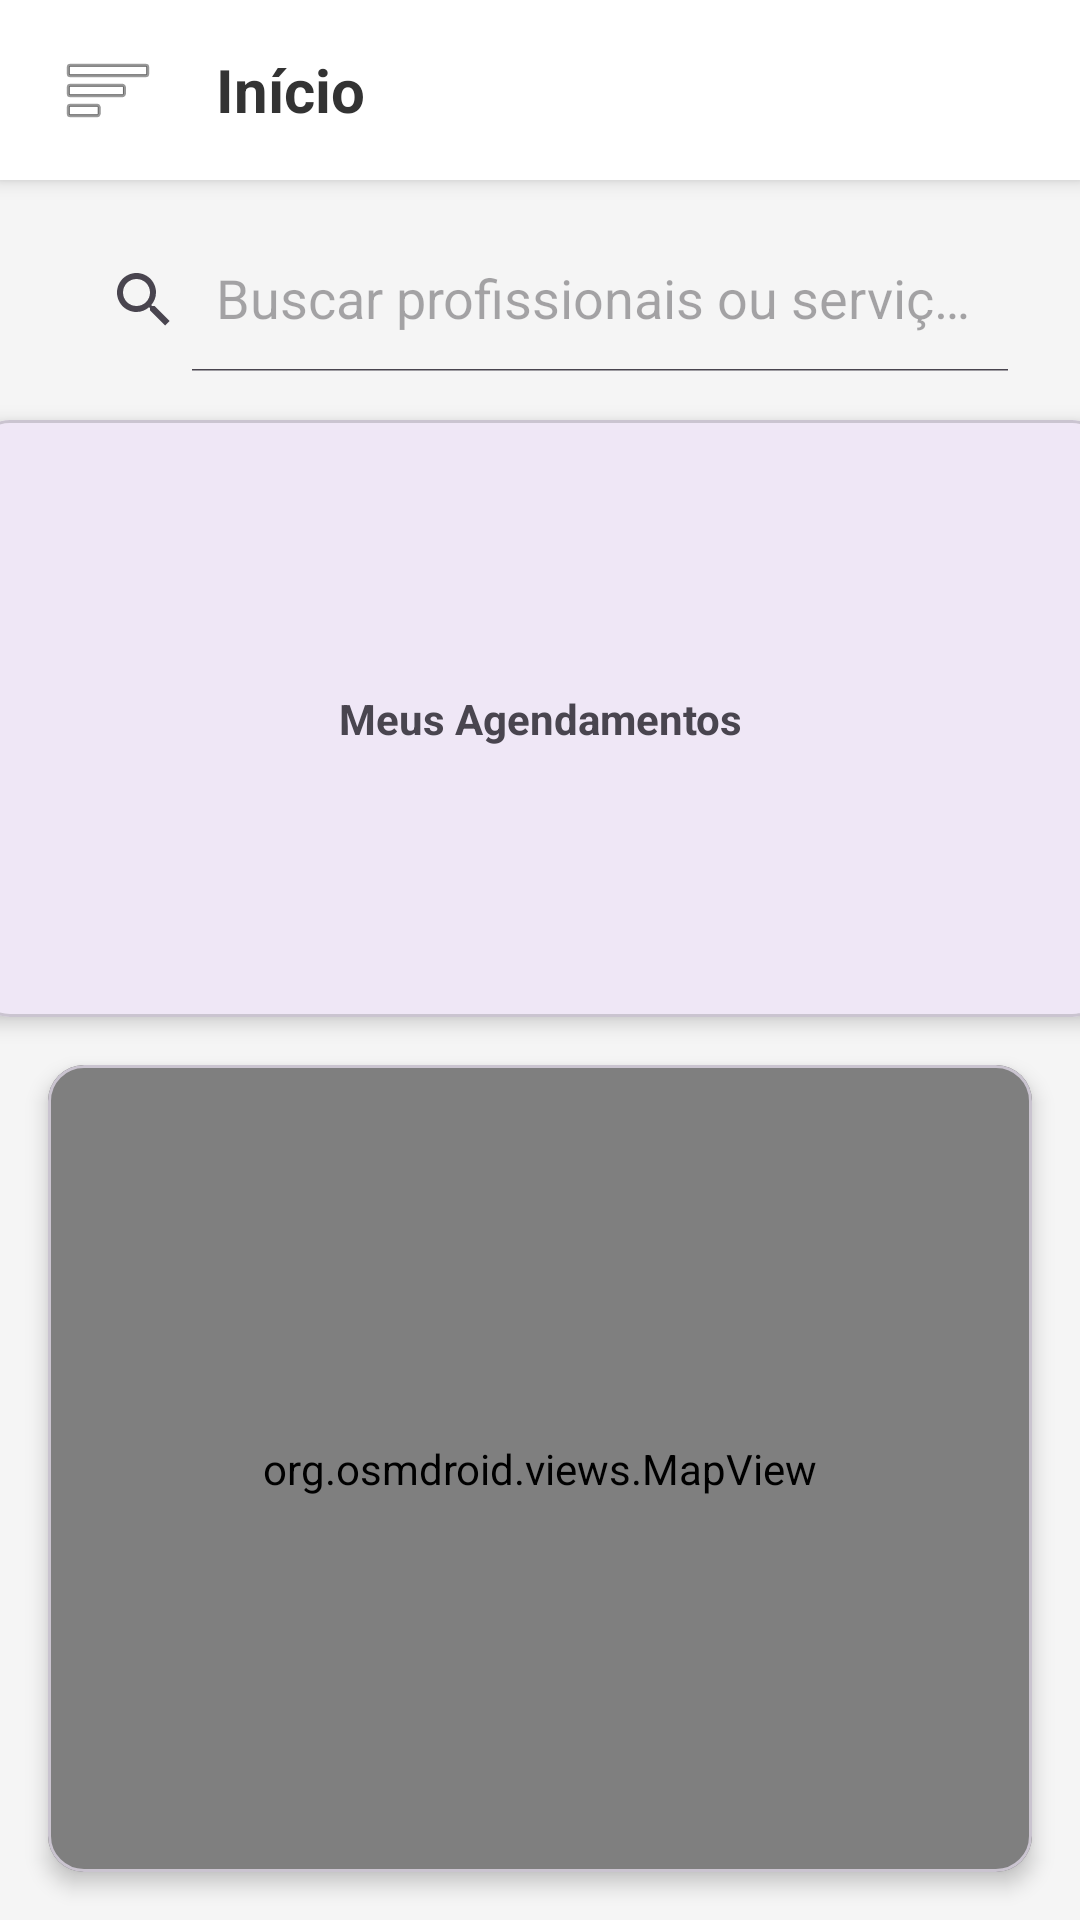

Screen size 1080px×1920px. Icon name, then its box in pixels as (x1, y1, x2, y2):
Abrir Menu: (67, 64, 149, 117)
